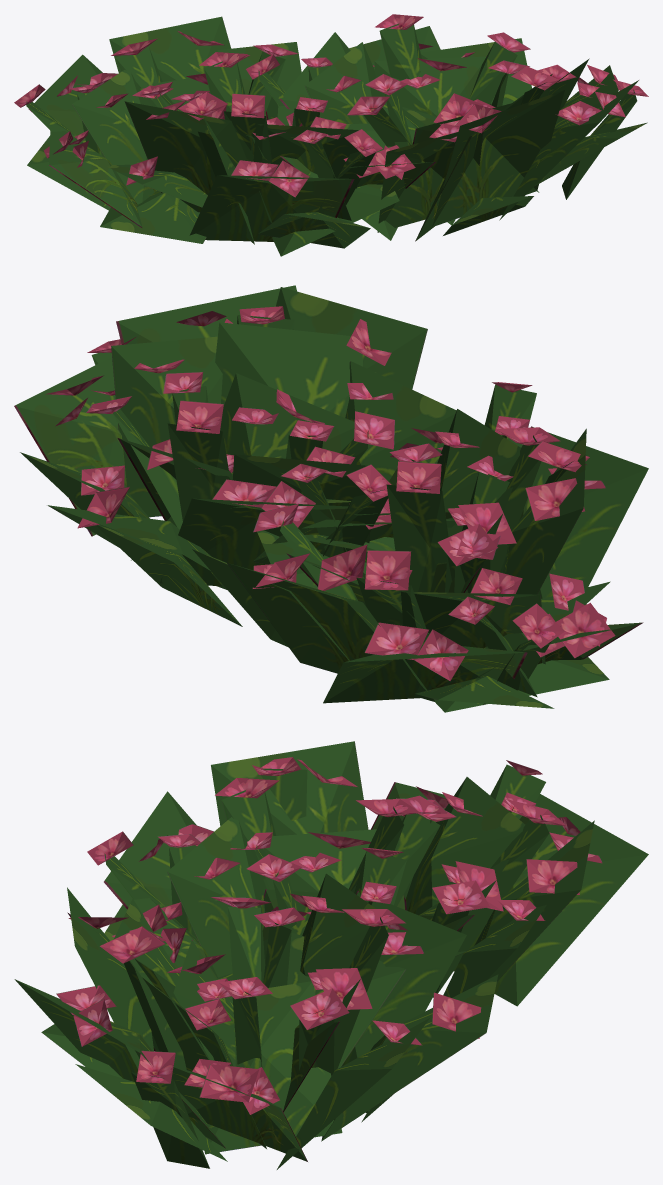
3 renders of one model, top to bottom at view 1: azimuth 30°, elevation 25°; view 2: azimuth 150°, elevation 25°; view 3: azimuth 270°, elevation 25°, orthographic. The views are drawn at different scales.
Visible parts, largest first — view 1: MS0003_07_05; view 2: MS0003_07_05; view 3: MS0003_07_05.
Boxes of the visible parts, box(x1,y1,x2,y2) form: MS0003_07_05: box(14, 14, 648, 256); MS0003_07_05: box(14, 285, 648, 712); MS0003_07_05: box(14, 741, 648, 1169).
Size of the model in its own units: 385 by 113 by 310.
1 material, 1 textured.
